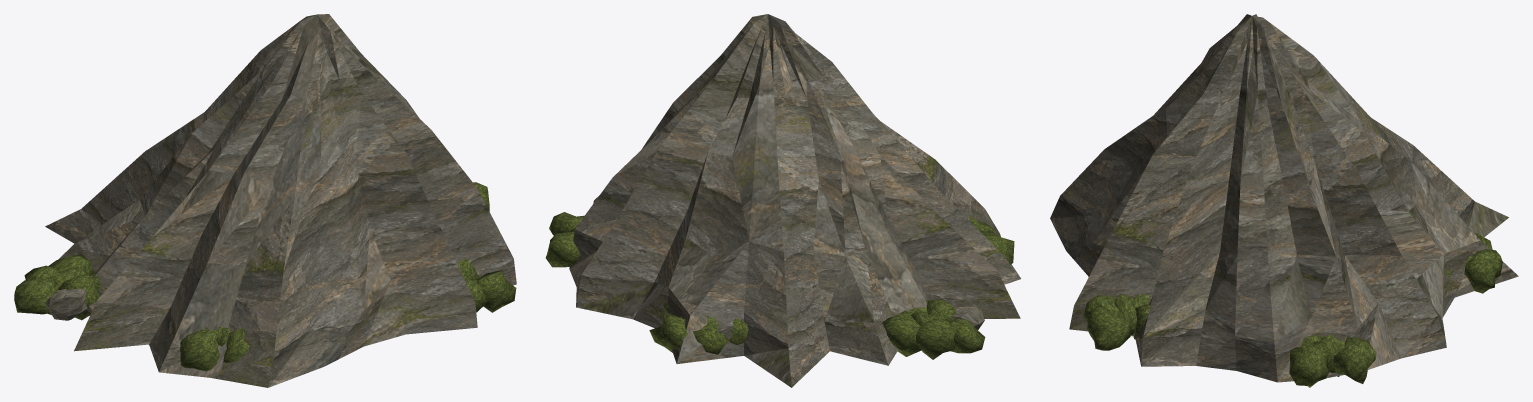
File: mountain_peak_b.gltf
3 views of the same model, side by side, from view 1: azimuth 30°, elevation 25°; view 2: azimuth 150°, elevation 25°; view 3: azimuth 270°, elevation 25° (orthographic). The views are drawn at different scales.
Visible parts, largest first — view 1: mountain_peak_b_game; view 2: mountain_peak_b_game; view 3: mountain_peak_b_game.
Part boxes in pixels (<box>): mountain_peak_b_game: <box>14,14,516,387</box>; mountain_peak_b_game: <box>545,14,1020,387</box>; mountain_peak_b_game: <box>1050,14,1518,387</box>.
Size of the model in its own units: 1.72 by 0.9814 by 1.46.
Materials: 2 (2 with a texture image).
